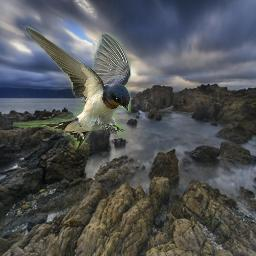Swallow: (13, 24, 131, 149)
